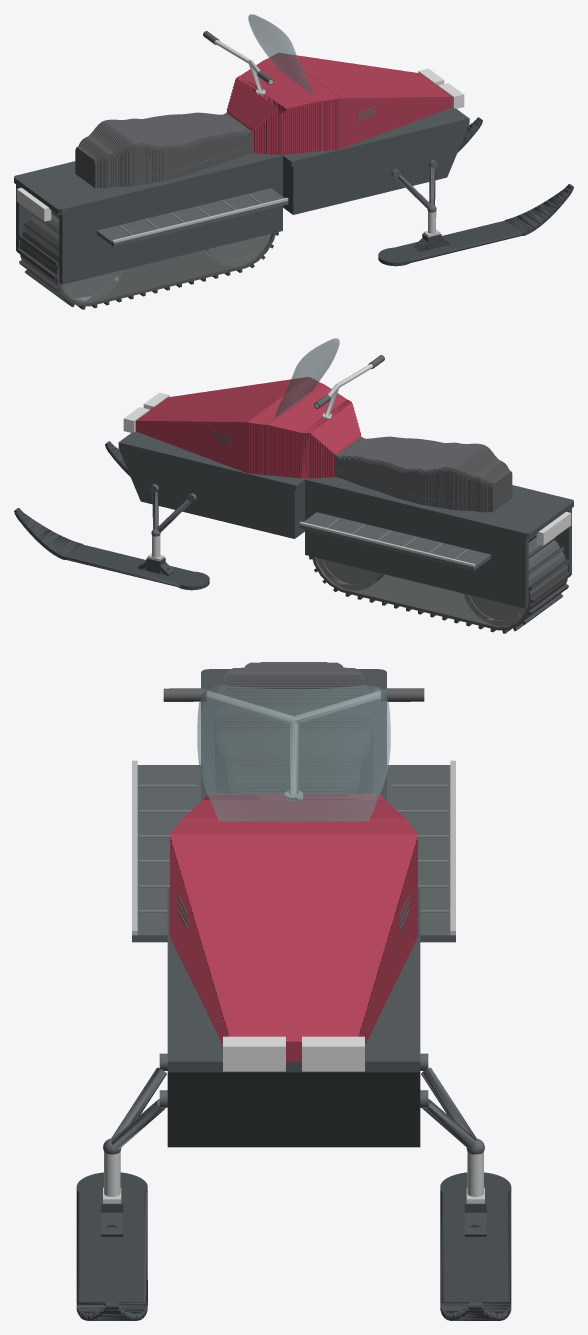
3 renders of one model, top to bottom at view 1: azimuth 30°, elevation 25°; view 2: azimuth 150°, elevation 25°; view 3: azimuth 270°, elevation 25°, orthographic. The views are drawn at different scales.
Visible parts, largest first — view 1: polygon_prism, rear_lamp, headlamp_lens, track_belt_19_band, track_belt_18_band; view 2: polygon_prism, rear_lamp, headlamp_lens, track_belt_19_band, track_belt_18_band; view 3: polygon_prism, headlamp_lens.
Boxes of the visible parts, <box> form: polygon_prism: <box>14,14,573,302</box>; rear_lamp: <box>16,187,51,221</box>; headlamp_lens: <box>418,68,464,108</box>; track_belt_19_band: <box>23,219,59,256</box>; track_belt_18_band: <box>20,231,59,271</box>; polygon_prism: <box>14,338,573,626</box>; rear_lamp: <box>536,511,571,545</box>; headlamp_lens: <box>123,392,169,432</box>; track_belt_19_band: <box>528,543,564,580</box>; track_belt_18_band: <box>528,555,567,594</box>; polygon_prism: <box>76,662,511,1320</box>; headlamp_lens: <box>223,1036,364,1071</box>.
Size of the model in its own units: 2.9 by 1.22 by 1.1.
